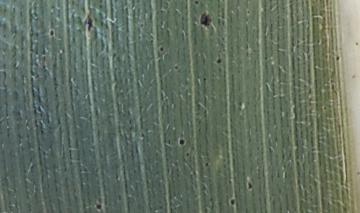tarspot: (198, 9, 213, 29), (83, 14, 93, 33), (94, 202, 104, 211), (177, 137, 186, 147), (214, 56, 224, 65), (48, 27, 56, 38), (246, 180, 253, 192), (229, 196, 236, 207), (157, 45, 165, 53), (262, 54, 270, 62), (33, 31, 41, 39), (173, 63, 180, 71), (201, 75, 208, 83), (334, 54, 341, 62), (245, 8, 251, 17), (353, 41, 360, 48), (203, 161, 210, 168), (322, 104, 328, 112), (39, 128, 45, 135), (184, 151, 190, 157), (193, 1, 200, 6), (2, 33, 6, 40)
